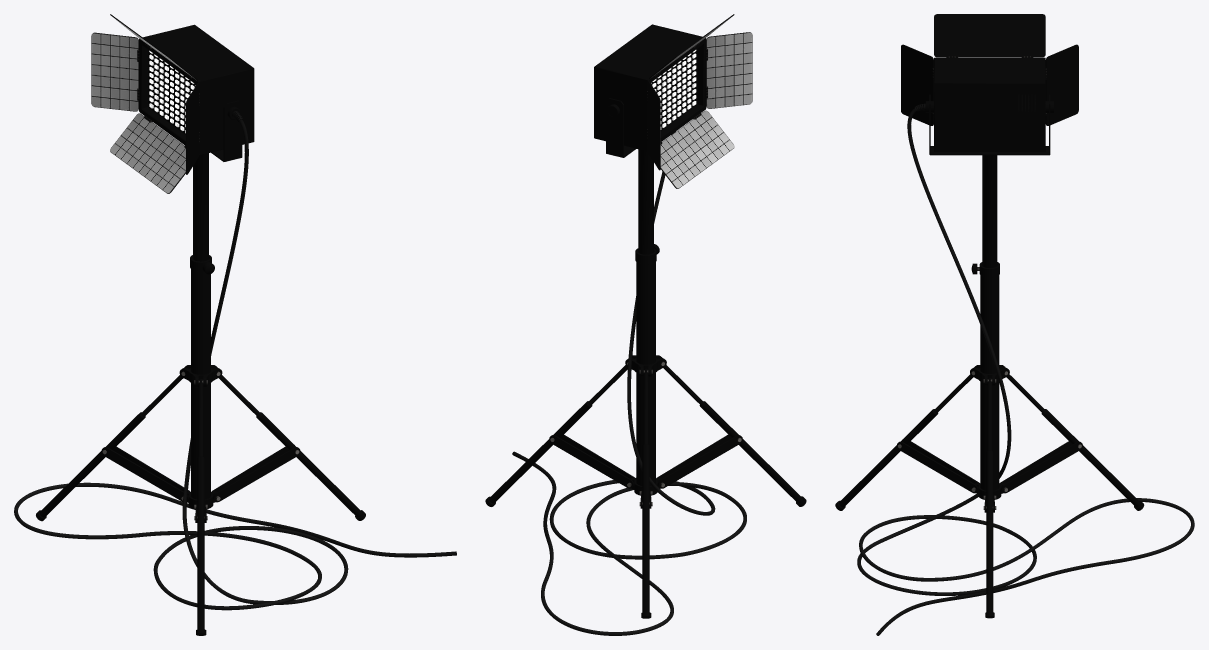
Rendered from spotlight.glb.
3 views of the same model, side by side, from view 1: azimuth 30°, elevation 25°; view 2: azimuth 150°, elevation 25°; view 3: azimuth 270°, elevation 25° (orthographic). The views are drawn at different scales.
Visible parts, largest first — view 1: Object_2, Object_3, Object_4; view 2: Object_2, Object_3, Object_4; view 3: Object_2, Object_3, Object_4.
Boxes of the visible parts, x1=… form: Object_2: x1=91, y1=14, x2=254, y2=193; Object_3: x1=36, y1=255, x2=365, y2=635; Object_4: x1=14, y1=100, x2=456, y2=610; Object_2: x1=594, y1=14, x2=752, y2=188; Object_3: x1=485, y1=244, x2=806, y2=618; Object_4: x1=512, y1=98, x2=746, y2=635; Object_2: x1=901, y1=14, x2=1078, y2=151; Object_3: x1=835, y1=262, x2=1144, y2=618; Object_4: x1=857, y1=94, x2=1194, y2=635.
Bounding box in the file's own units: 0.9874 × 1.72 × 1.11.
1 material, 1 textured.
